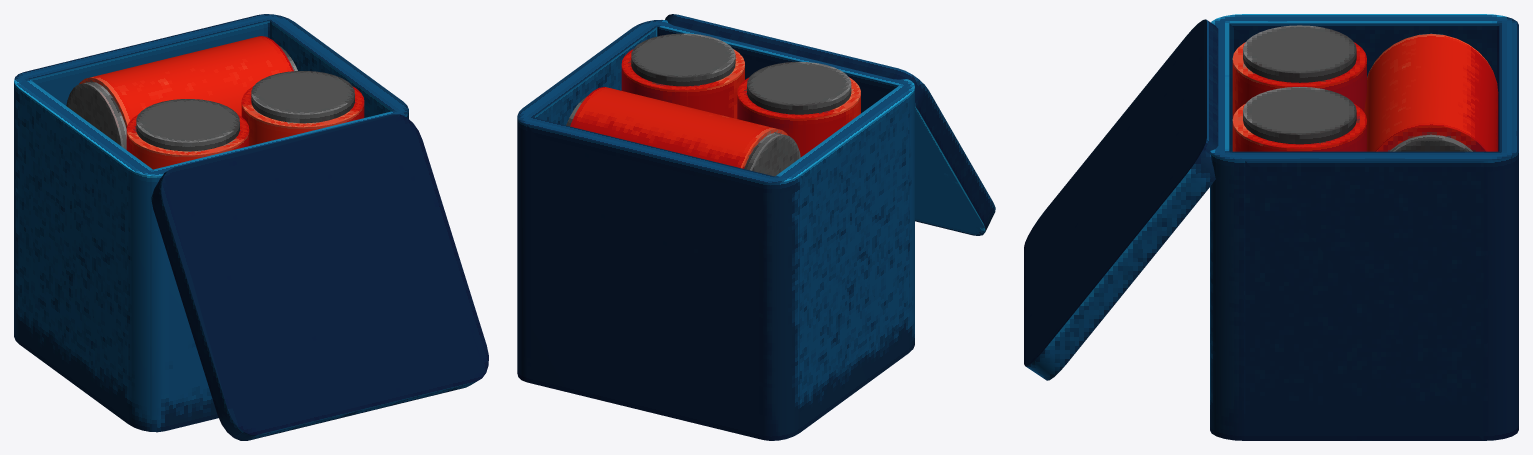
File: ramune_cooler.glb
The picture shows the model from 3 angles, left to right: view 1: azimuth 30°, elevation 25°; view 2: azimuth 150°, elevation 25°; view 3: azimuth 270°, elevation 25°; orthographic projection. The views are drawn at different scales.
Visible parts, largest first — view 1: mesh; view 2: mesh; view 3: mesh.
Boxes of the visible parts, left/top/right/bottom form: mesh: left=14, top=14, right=488, bottom=440; mesh: left=517, top=14, right=995, bottom=440; mesh: left=1024, top=14, right=1518, bottom=440.
Size of the model in its own units: 0.7944 by 0.735 by 1.13.
1 material, 1 textured.
